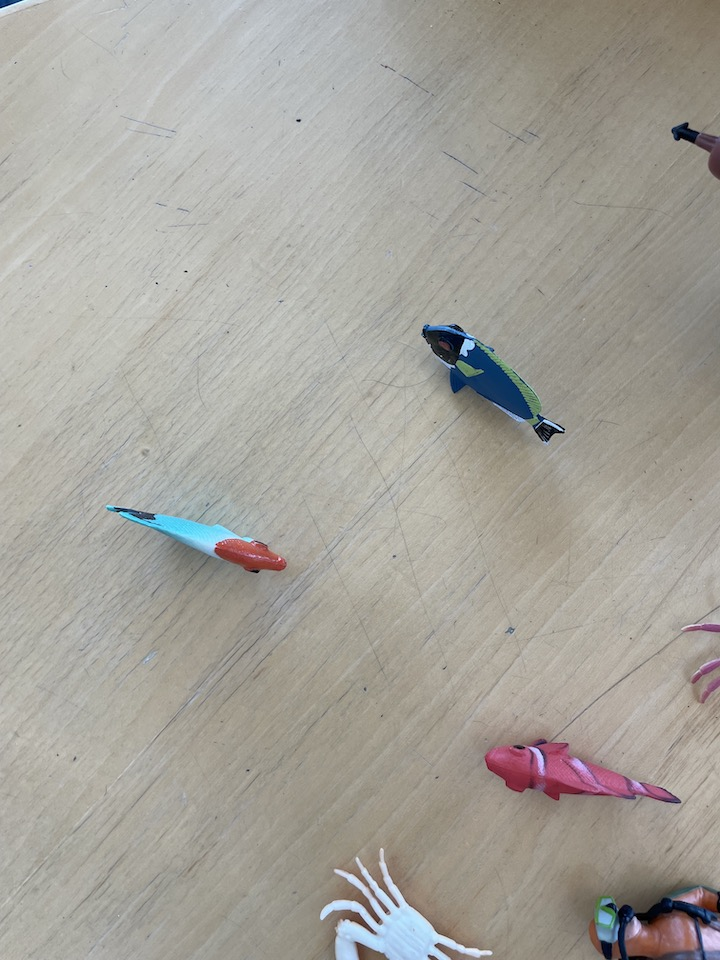crab: (316, 848, 496, 960), (675, 618, 720, 708)
diver: (586, 882, 720, 960), (667, 117, 720, 184)
fish: (420, 319, 568, 446), (483, 734, 687, 812), (102, 499, 291, 580)
